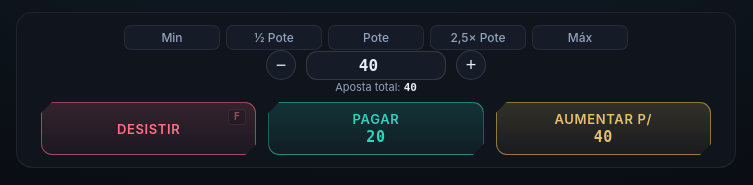
ActionBar › o preset "½ pote" ajusta o valor do aumento (poker bet-sizing)
This screenshot has width=753, height=185.
Expected: the button "Aumentar p/ 40" is shown, [496,102,711,155]
Click the button "½ Pote" at {"x": 274, "y": 38}, box [226,25,322,50]
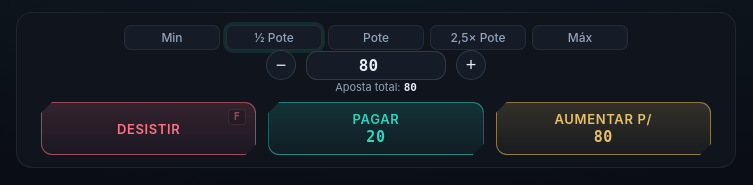
Now the button "Aumentar p/ 80" is shown, box [496,102,711,155]
